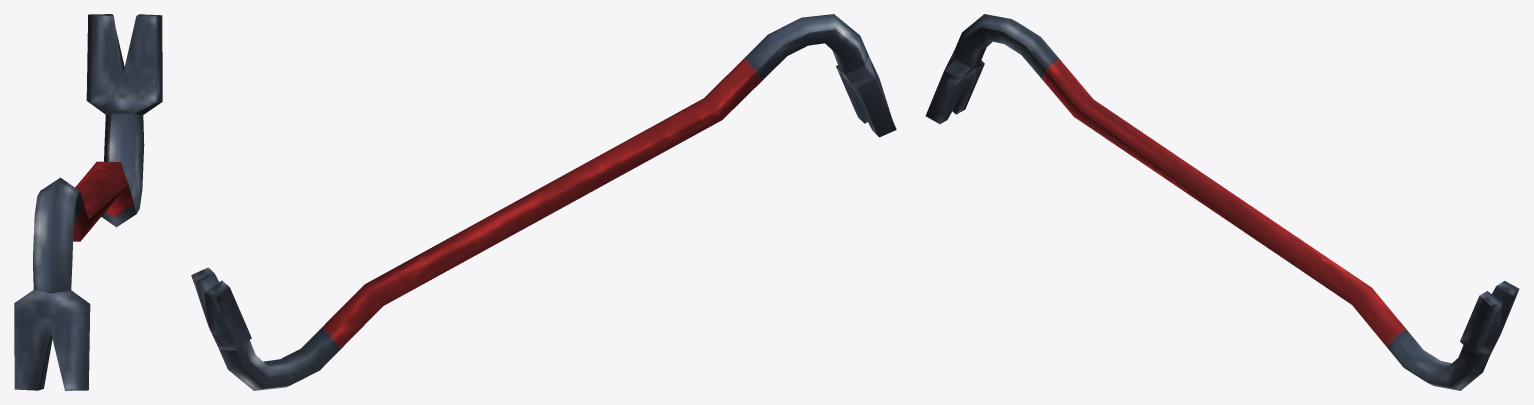
The model's file is crowbar.FBX.
3 renders of one model, left to right at view 1: azimuth 30°, elevation 25°; view 2: azimuth 150°, elevation 25°; view 3: azimuth 270°, elevation 25°, orthographic. The views are drawn at different scales.
Parts seen in each view (by area): view 1: InventoryItem_Crowbar; view 2: InventoryItem_Crowbar; view 3: InventoryItem_Crowbar.
Part boxes in pixels (x1=…): InventoryItem_Crowbar: x1=14, y1=14, x2=162, y2=390; InventoryItem_Crowbar: x1=191, y1=14, x2=896, y2=390; InventoryItem_Crowbar: x1=925, y1=14, x2=1519, y2=390.
Bounding box in the file's own units: 49.63 × 31.02 × 68.88.
Materials: 1 (1 with a texture image).
